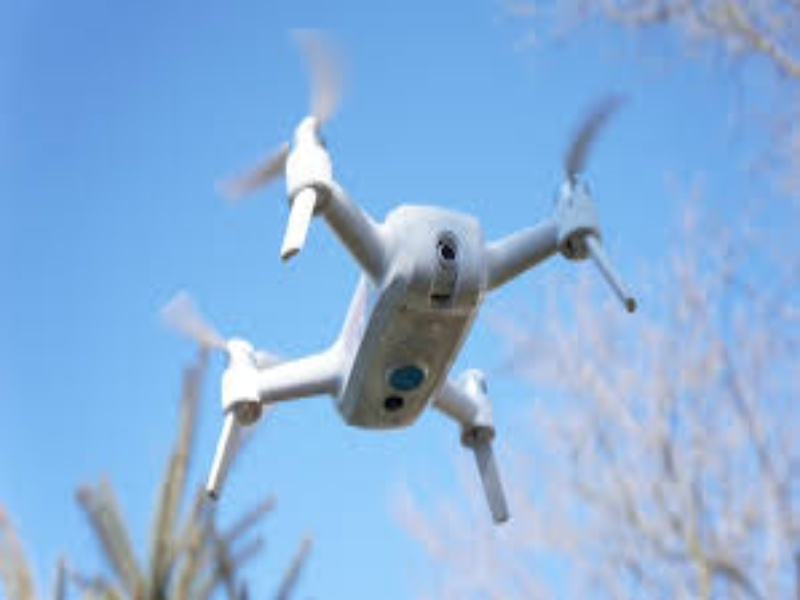drone: (175, 93, 637, 530)
